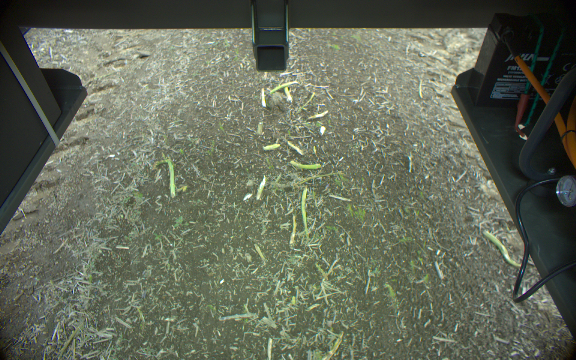aspa: (161, 158, 177, 198), (287, 159, 322, 173), (300, 185, 310, 233), (270, 80, 299, 94)
